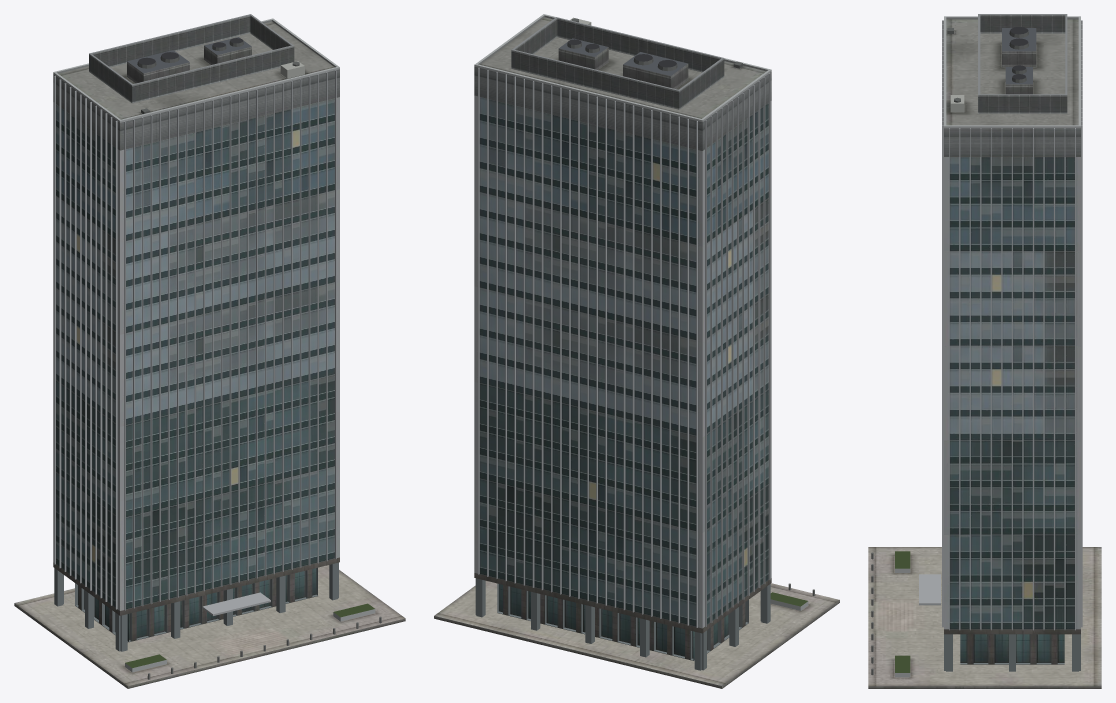
File: nyc_glassslab_a.glb
The picture shows the model from 3 angles, left to right: view 1: azimuth 30°, elevation 25°; view 2: azimuth 150°, elevation 25°; view 3: azimuth 270°, elevation 25°; orthographic projection. The views are drawn at different scales.
Parts seen in each view (by area): view 1: nyc_glassslab_a; view 2: nyc_glassslab_a; view 3: nyc_glassslab_a.
Part boxes in pixels (bbox=[...]): nyc_glassslab_a: bbox=[14, 14, 405, 688]; nyc_glassslab_a: bbox=[434, 14, 839, 688]; nyc_glassslab_a: bbox=[868, 14, 1101, 688].
Bounding box in the file's own units: 48.01 × 91 × 34.
Materials: 1 (1 with a texture image).
